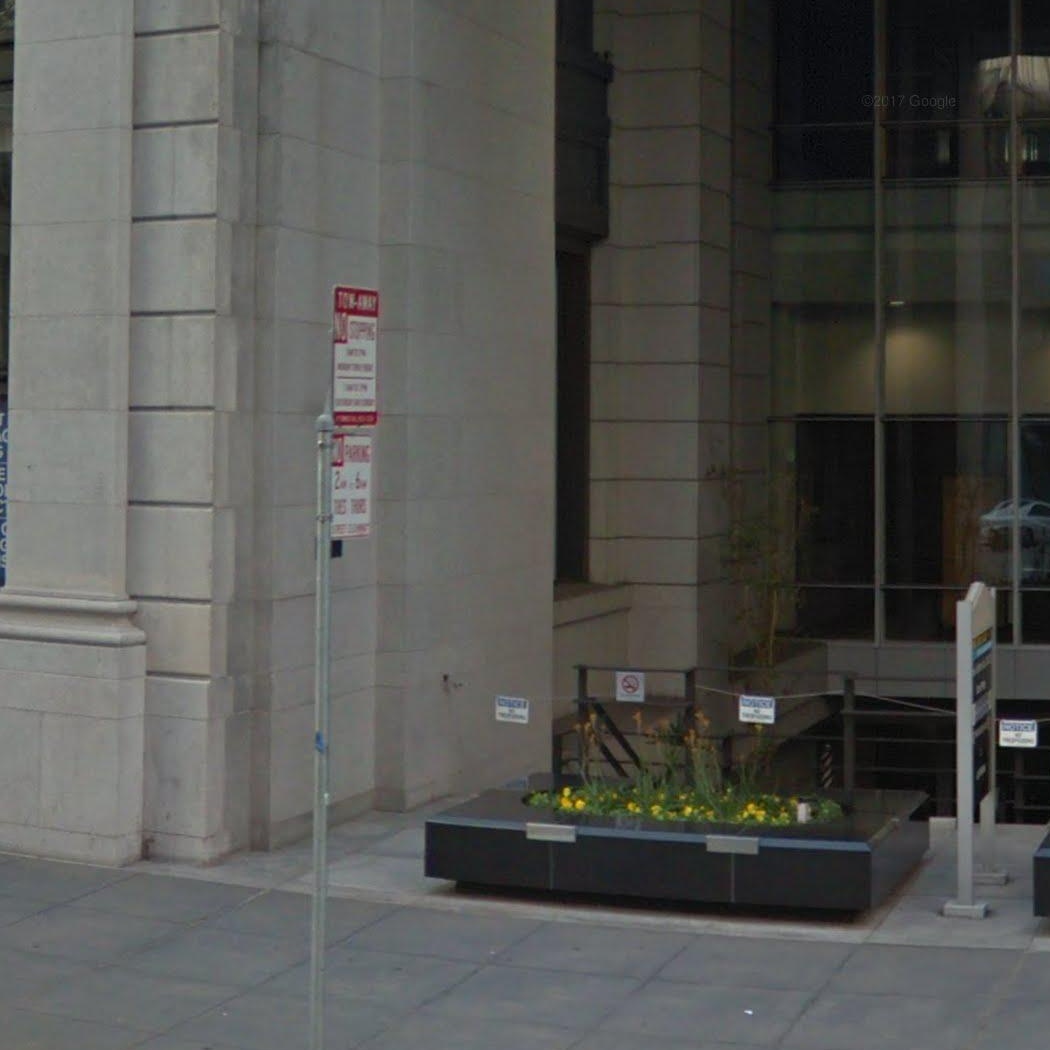No Parking: (329, 433, 374, 539)
